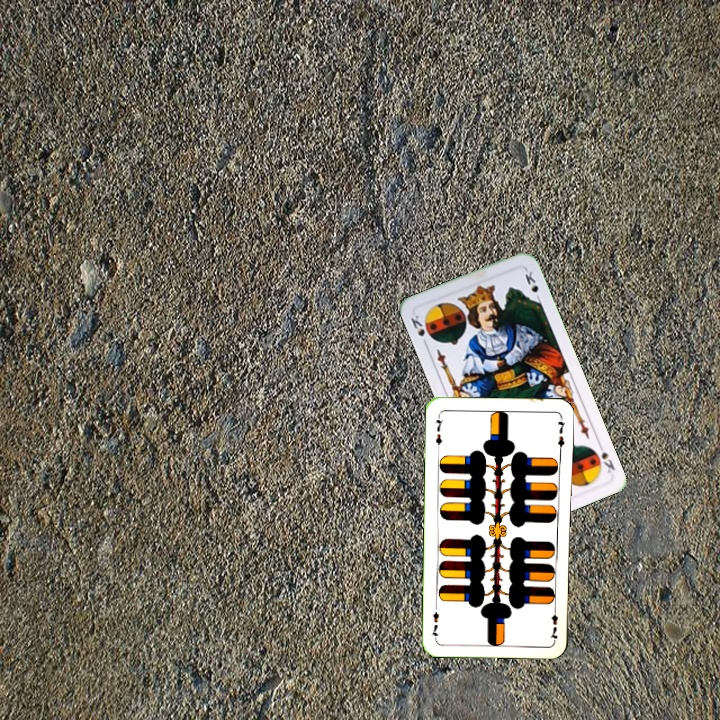E7: (431, 412, 445, 452), (547, 602, 561, 642)
SK: (594, 438, 618, 475), (407, 311, 430, 349)
